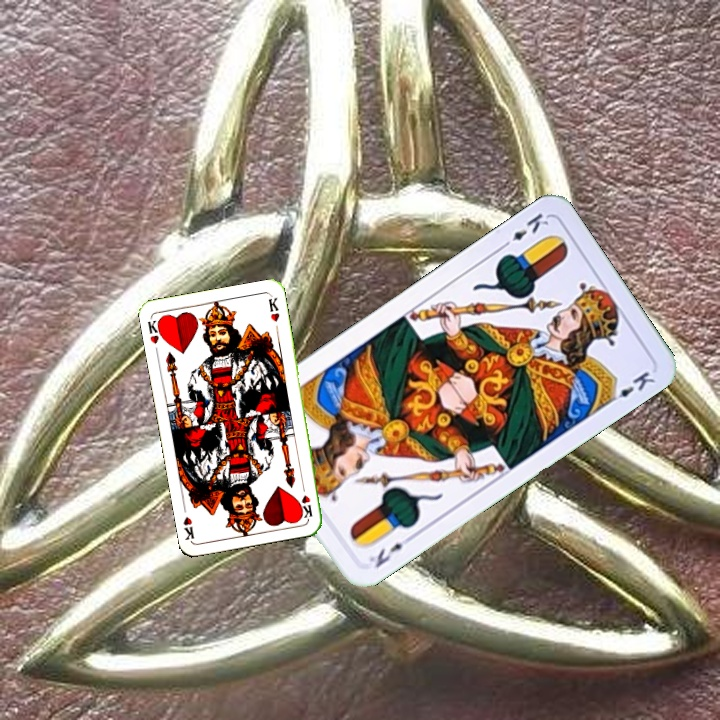EK: (497, 209, 552, 252), (365, 531, 416, 571)
HK: (297, 480, 315, 520), (143, 315, 166, 346)
